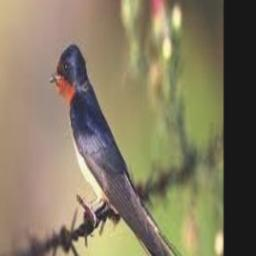Swallow: (50, 46, 189, 256)
